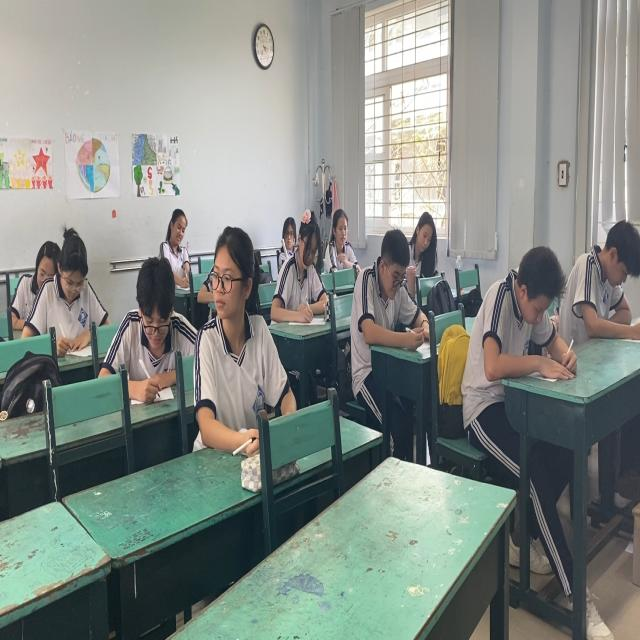cheating: (202, 229, 274, 399)
not_cheating: (122, 243, 214, 409), (478, 247, 563, 378), (560, 212, 640, 351), (29, 212, 103, 323), (357, 230, 414, 347), (268, 215, 330, 316), (400, 198, 445, 268), (324, 210, 364, 274), (161, 198, 190, 282)
